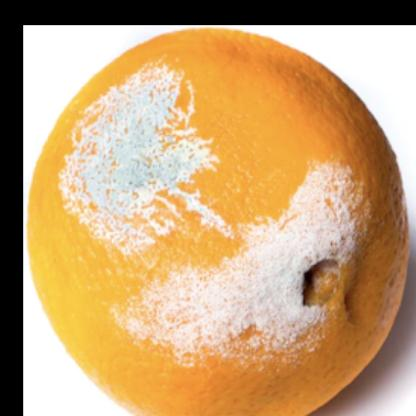rotten: (30, 29, 410, 416)
